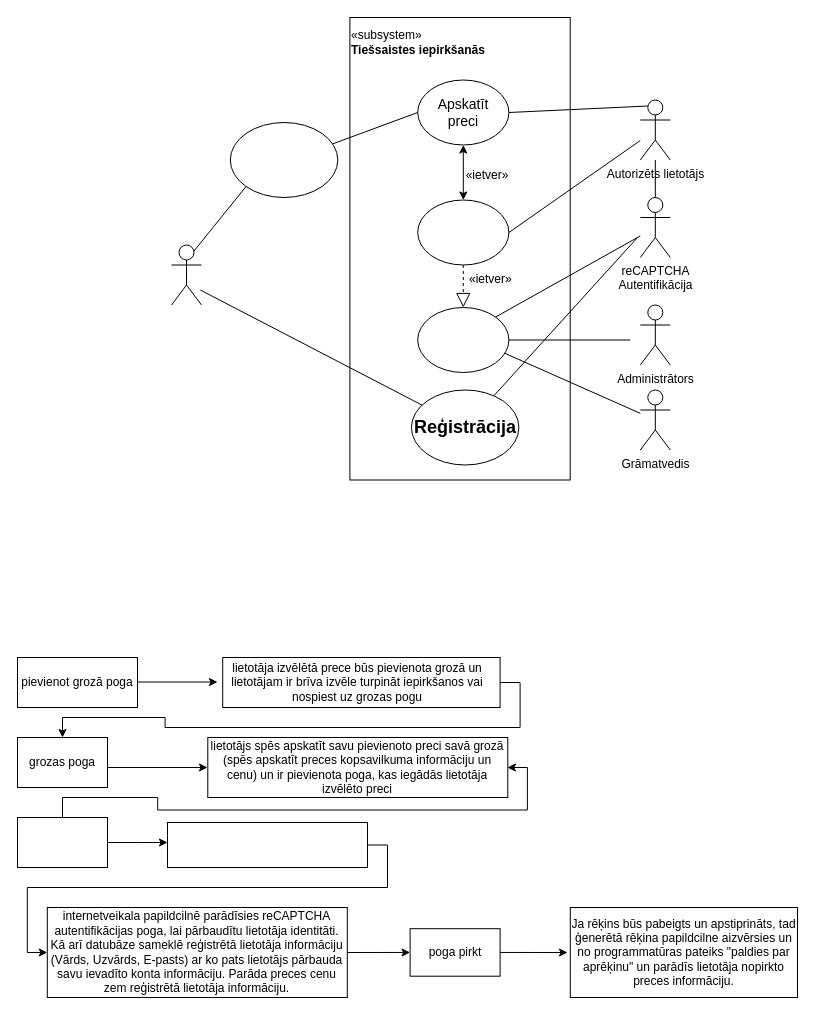
This 815x1015 diagram has some shape labels left out. Each missing label, with the centre of its shape:
iegādāties poga: the point at 62,842
Kase: the point at 463,339
Lietotājs: the point at 186,274
Veikt pirkumu: the point at 463,232
Viesu režīms: the point at 283,160
ģenerētais rēķins, kas parādīsies lietotāja papildcilnē internetveikalā: the point at 267,845
